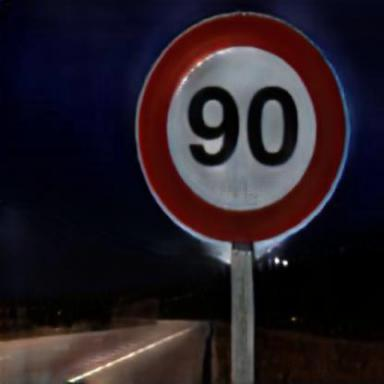Speed_limit_90: (138, 14, 342, 242)
